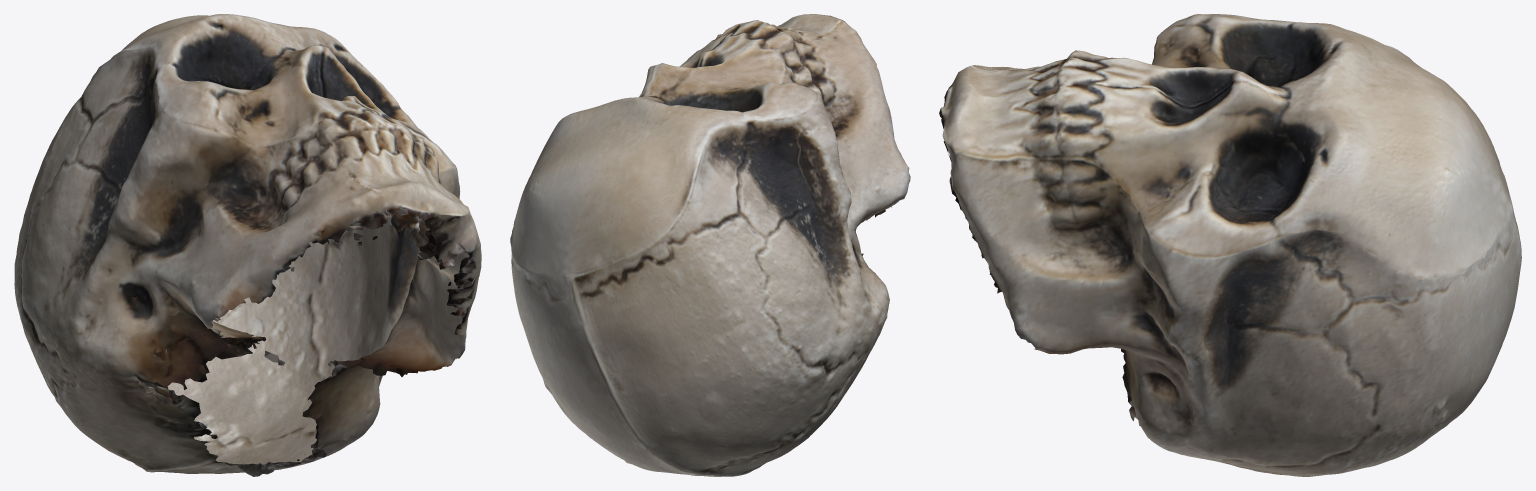
Rendered from skull_decoration.glb.
3 renders of one model, left to right at view 1: azimuth 30°, elevation 25°; view 2: azimuth 150°, elevation 25°; view 3: azimuth 270°, elevation 25°, orthographic. The views are drawn at different scales.
Parts seen in each view (by area): view 1: mat-0; view 2: mat-0; view 3: mat-0.
Boxes of the visible parts, x1,y1,x2,y2 form: mat-0: [14, 14, 481, 476]; mat-0: [510, 14, 910, 476]; mat-0: [939, 14, 1521, 476].
Bounding box in the file's own units: 0.212 × 0.2396 × 0.2955.
1 material, 1 textured.
